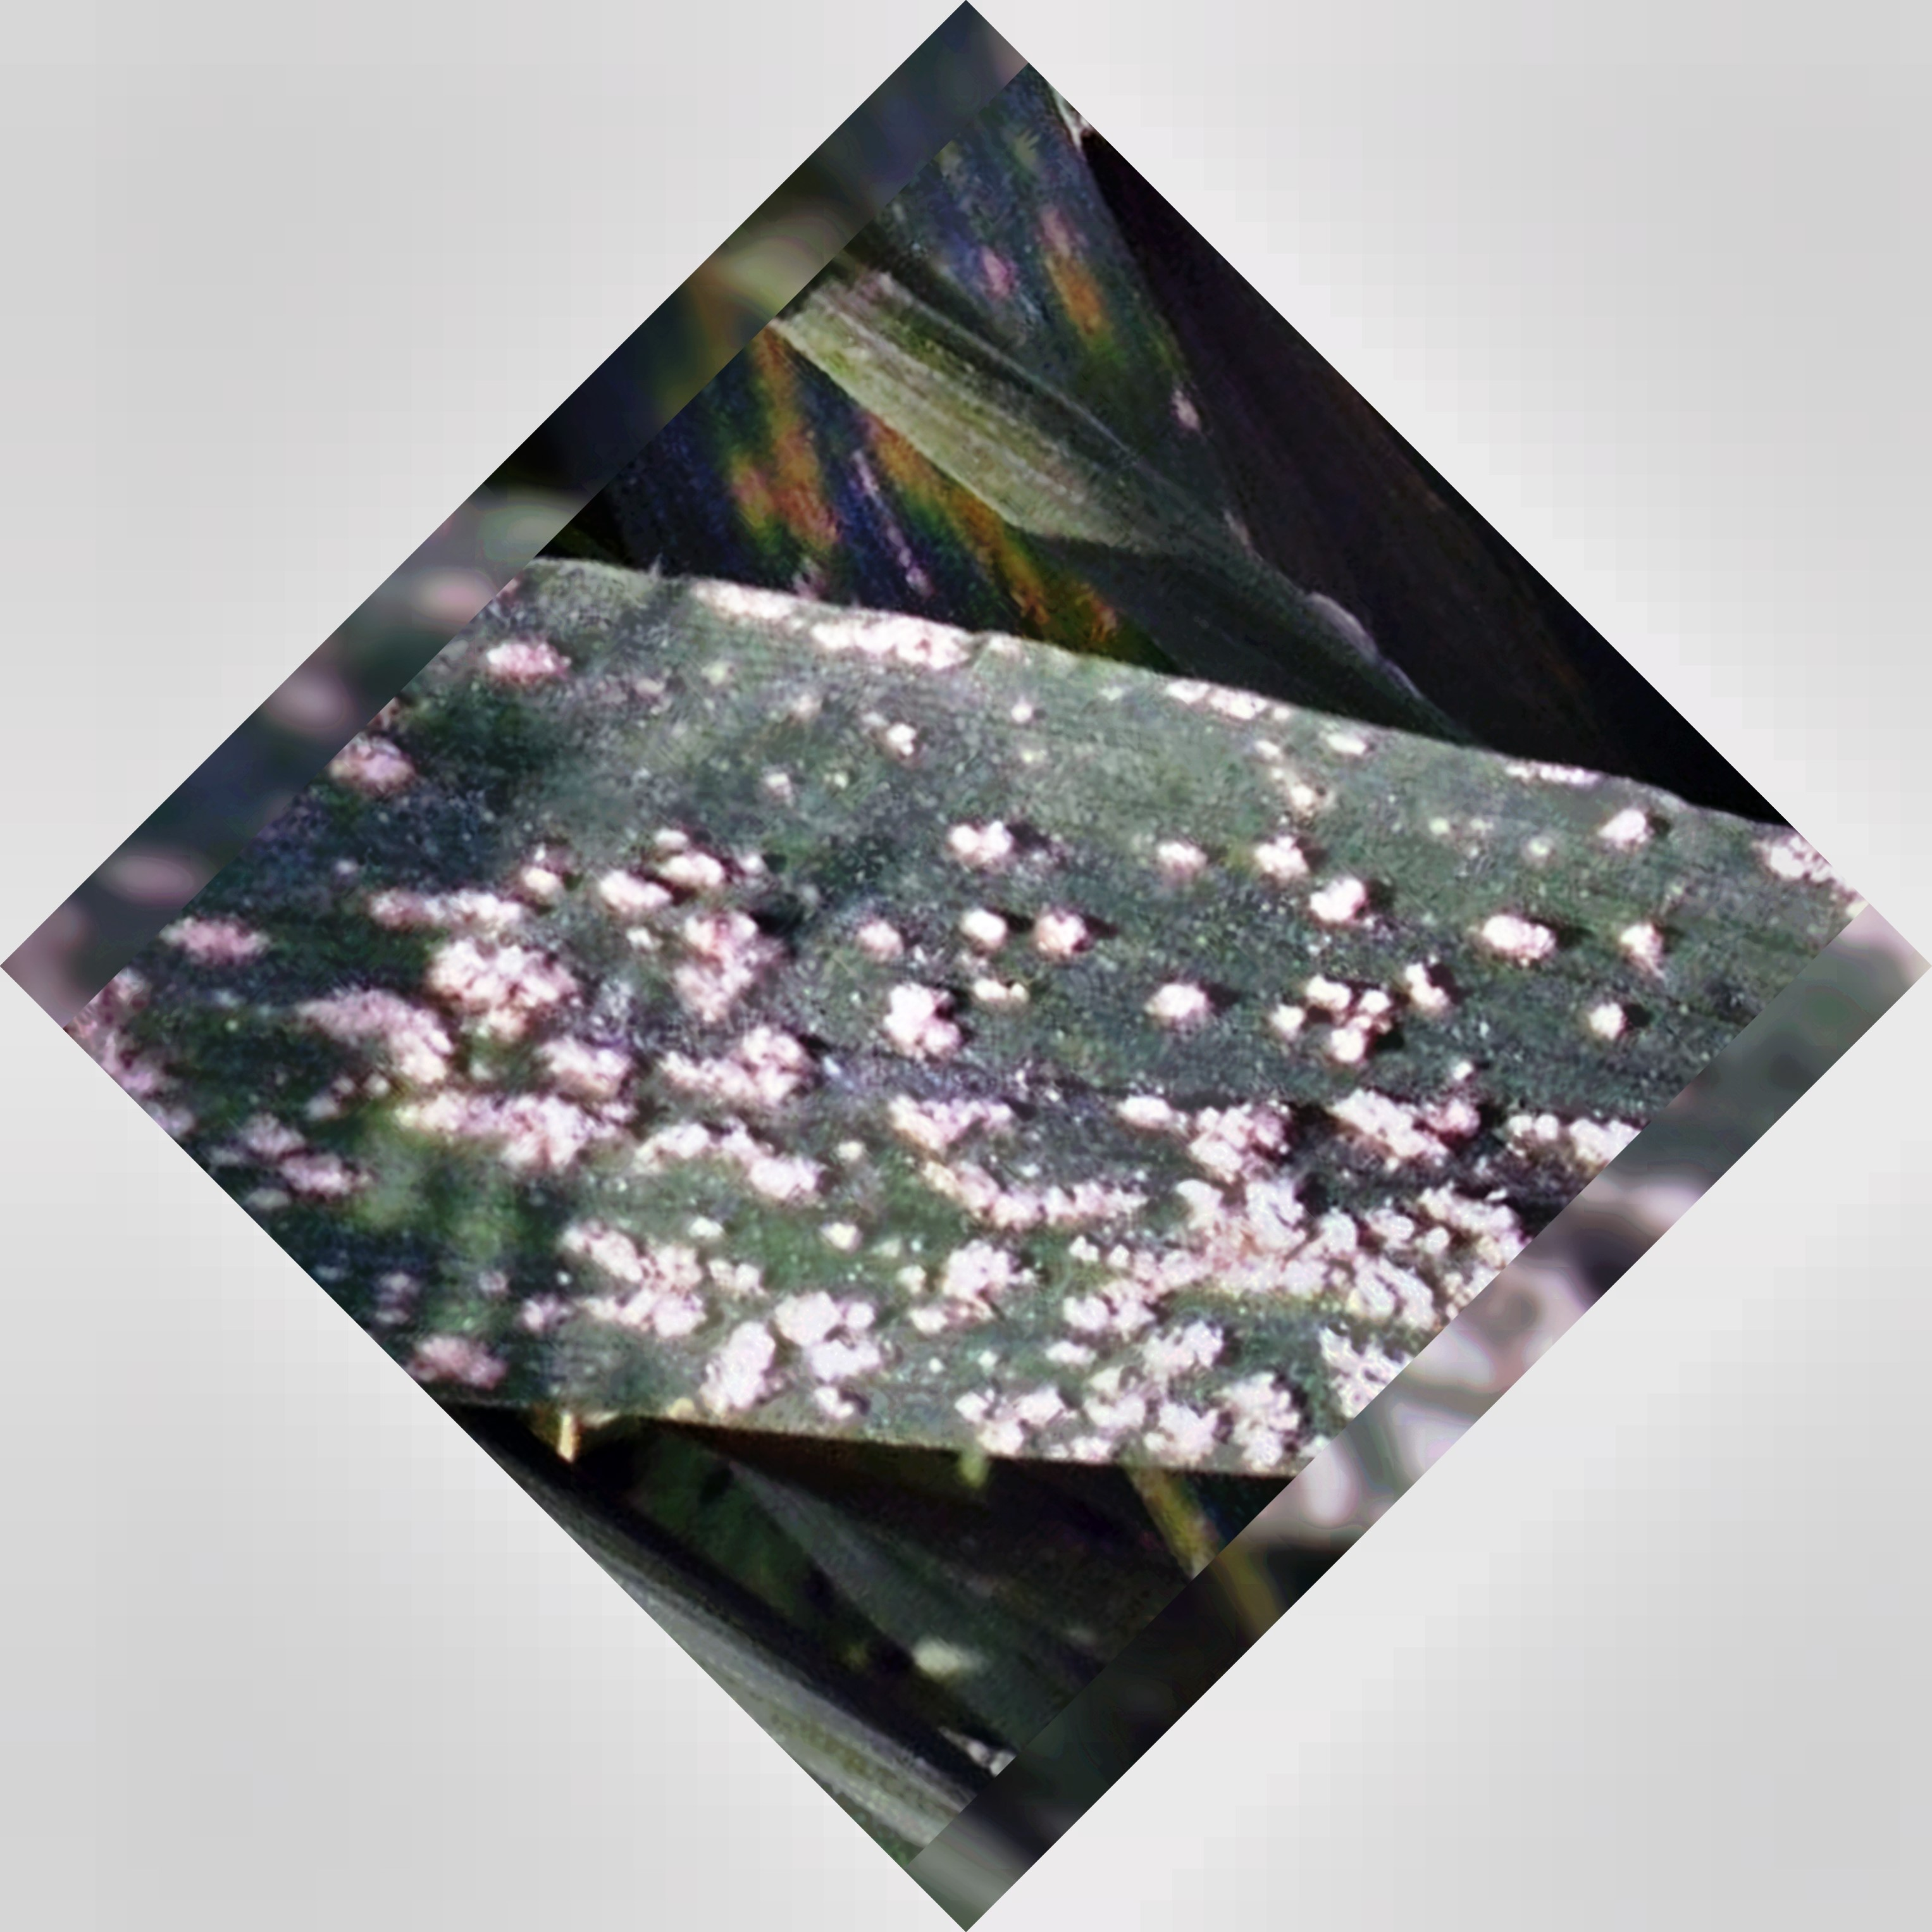Powdery Mildew: (357, 725, 1504, 1481)
